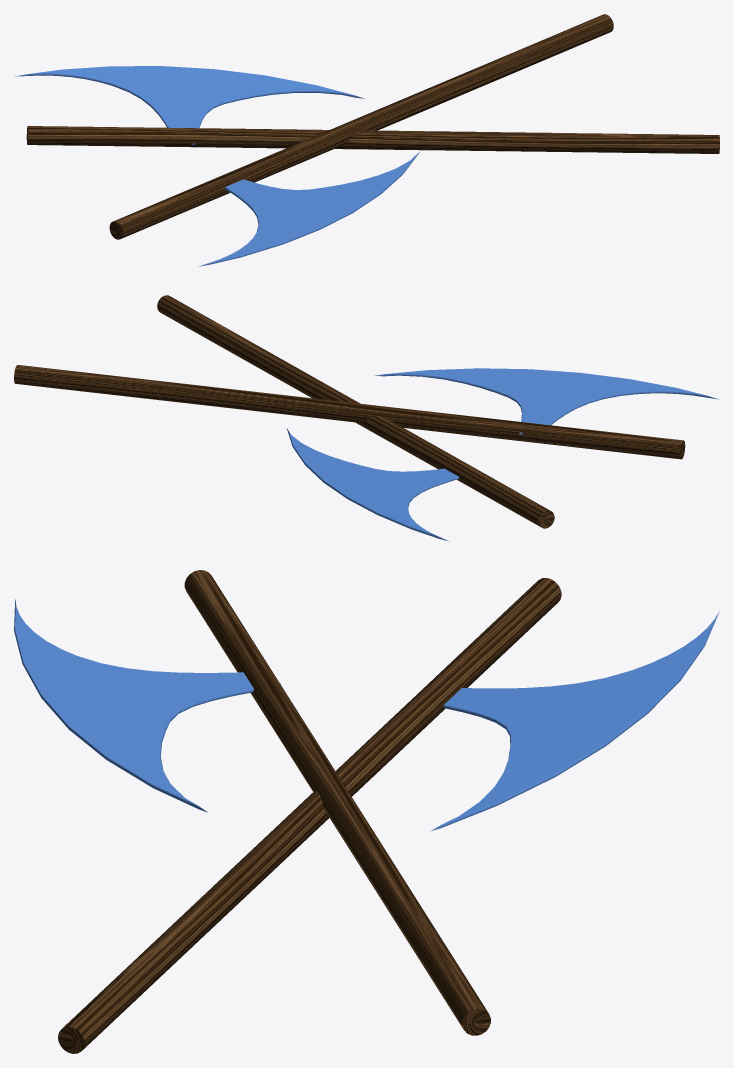
File: Axe.obj
3 views of the same model, one above another, from view 1: azimuth 30°, elevation 25°; view 2: azimuth 150°, elevation 25°; view 3: azimuth 270°, elevation 25° (orthographic). The views are drawn at different scales.
Parts seen in each view (by area): view 1: Cylinder002, Cylinder001, Circle005, Circle004; view 2: Cylinder001, Cylinder002, Circle004, Circle005; view 3: Cylinder002, Cylinder001, Circle005, Circle004.
Boxes of the visible parts, <box> form: Cylinder002: <box>26,126,719,153</box>; Cylinder001: <box>109,14,613,239</box>; Circle005: <box>15,66,364,144</box>; Circle004: <box>199,152,419,266</box>; Cylinder001: <box>14,365,685,459</box>; Cylinder002: <box>157,295,554,528</box>; Circle004: <box>375,368,719,434</box>; Circle005: <box>286,428,459,541</box>; Cylinder002: <box>58,578,561,1053</box>; Cylinder001: <box>184,570,490,1035</box>; Circle005: <box>430,612,719,831</box>; Circle004: <box>14,599,280,812</box>.
Size of the model in its own units: 176 by 12.98 by 119.
